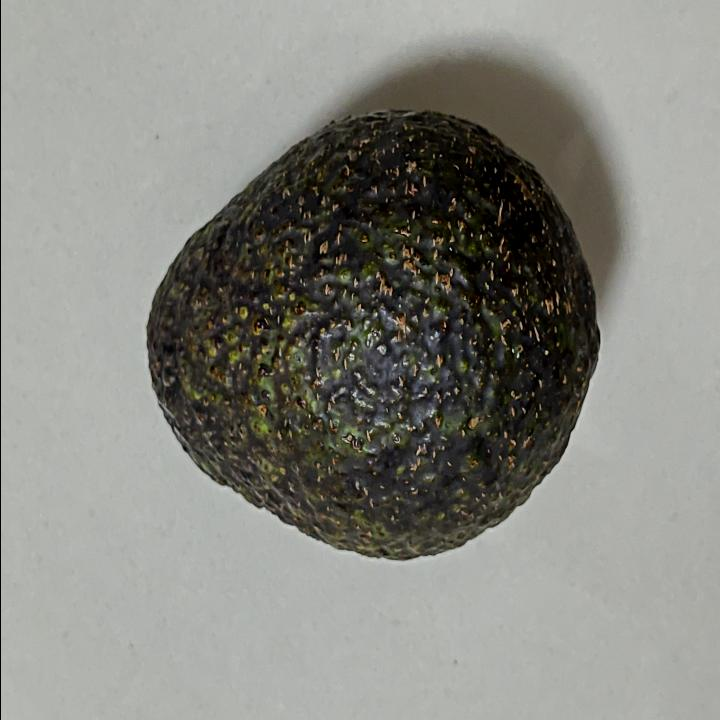Level1: (135, 100, 606, 574)
